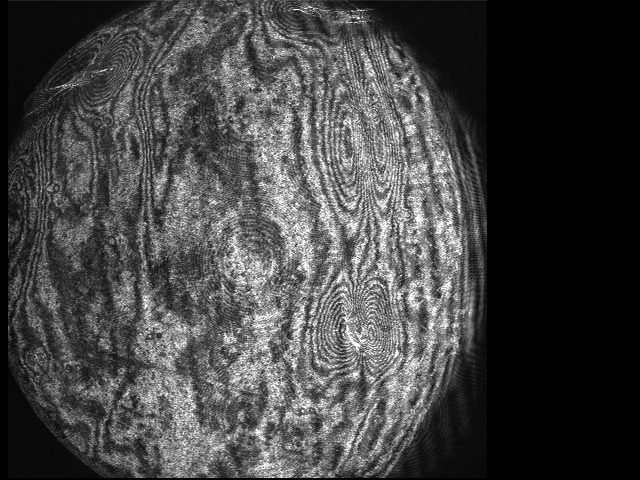plume: (312, 281, 398, 380)
